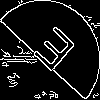E: (25, 25, 78, 81)
